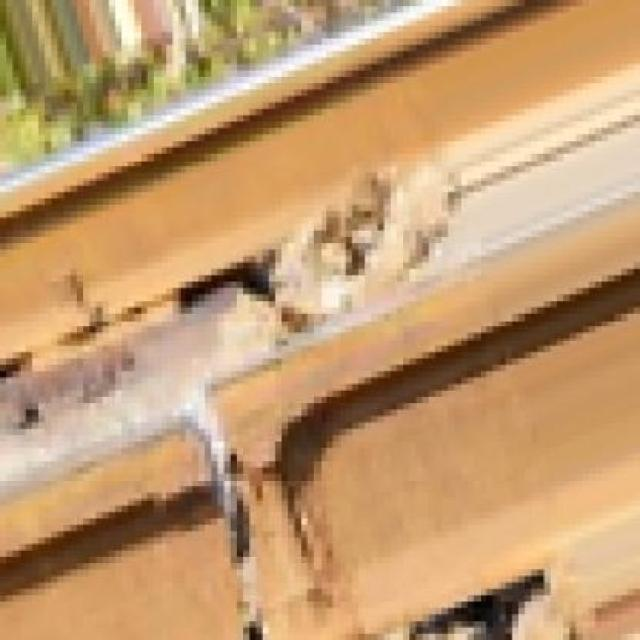defective: (0, 224, 640, 638)
